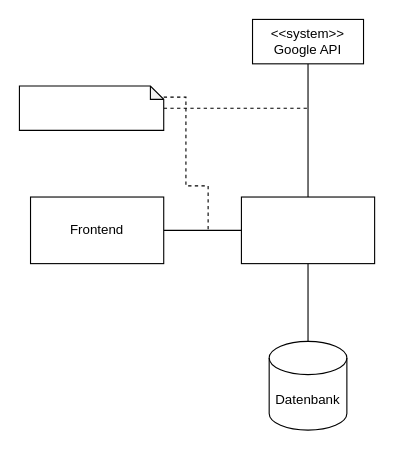
This 394x450 diagram has some shape labels left out. The centre of each missing label's shape, as x and y in pixels:
<<system>> ISO-to-Name: (x=307, y=230)
TCP-Basiertes Kommunikationsprotokoll: (x=91, y=107)
